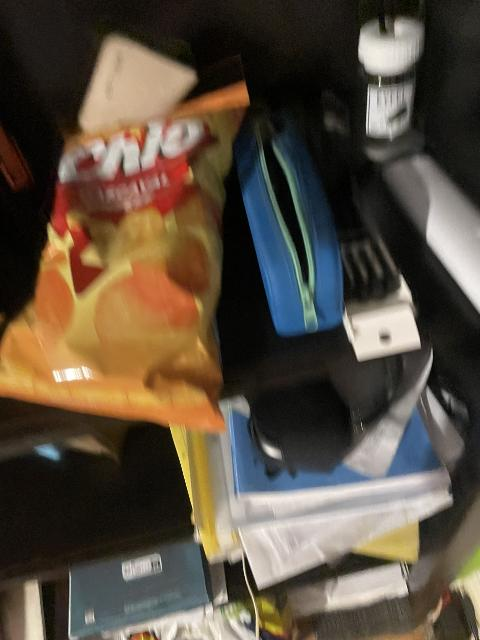Chio Cascaval 125g: (0, 66, 250, 431)
